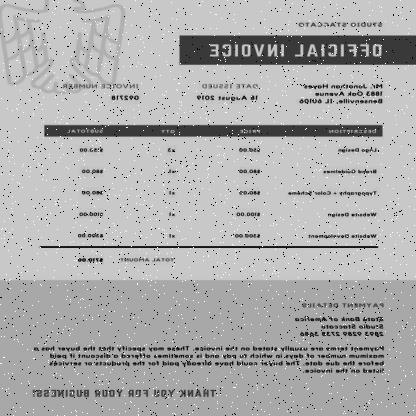Paragraph: (31, 343, 388, 377), (204, 38, 386, 60), (290, 300, 388, 340), (30, 387, 218, 399), (297, 82, 385, 106), (58, 81, 142, 102), (195, 81, 262, 103), (294, 20, 387, 30), (73, 256, 177, 263)
Table: (44, 124, 382, 247)
